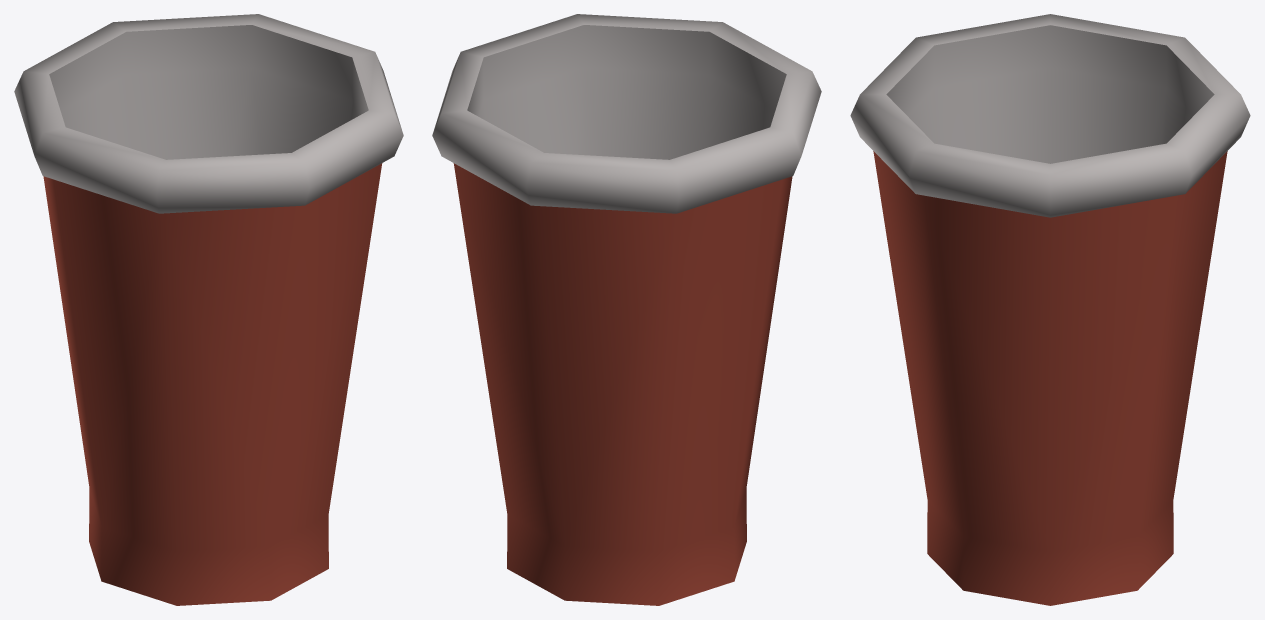
Rendered from SM_Prop_Cup_Red_01.obj.
3 views of the same model, side by side, from view 1: azimuth 30°, elevation 25°; view 2: azimuth 150°, elevation 25°; view 3: azimuth 270°, elevation 25° (orthographic).
Visible parts, largest first — view 1: SM_Prop_Cup_Red_01_Mat_SwatchOverlay_PolygonOffice_01_Inst; view 2: SM_Prop_Cup_Red_01_Mat_SwatchOverlay_PolygonOffice_01_Inst; view 3: SM_Prop_Cup_Red_01_Mat_SwatchOverlay_PolygonOffice_01_Inst.
Boxes of the visible parts, x1=… form: SM_Prop_Cup_Red_01_Mat_SwatchOverlay_PolygonOffice_01_Inst: x1=14, y1=14, x2=403, y2=605; SM_Prop_Cup_Red_01_Mat_SwatchOverlay_PolygonOffice_01_Inst: x1=432, y1=14, x2=821, y2=605; SM_Prop_Cup_Red_01_Mat_SwatchOverlay_PolygonOffice_01_Inst: x1=850, y1=14, x2=1250, y2=605.
Size of the model in its own units: 0.1719 by 0.2177 by 0.1719.
1 material, 1 textured.
